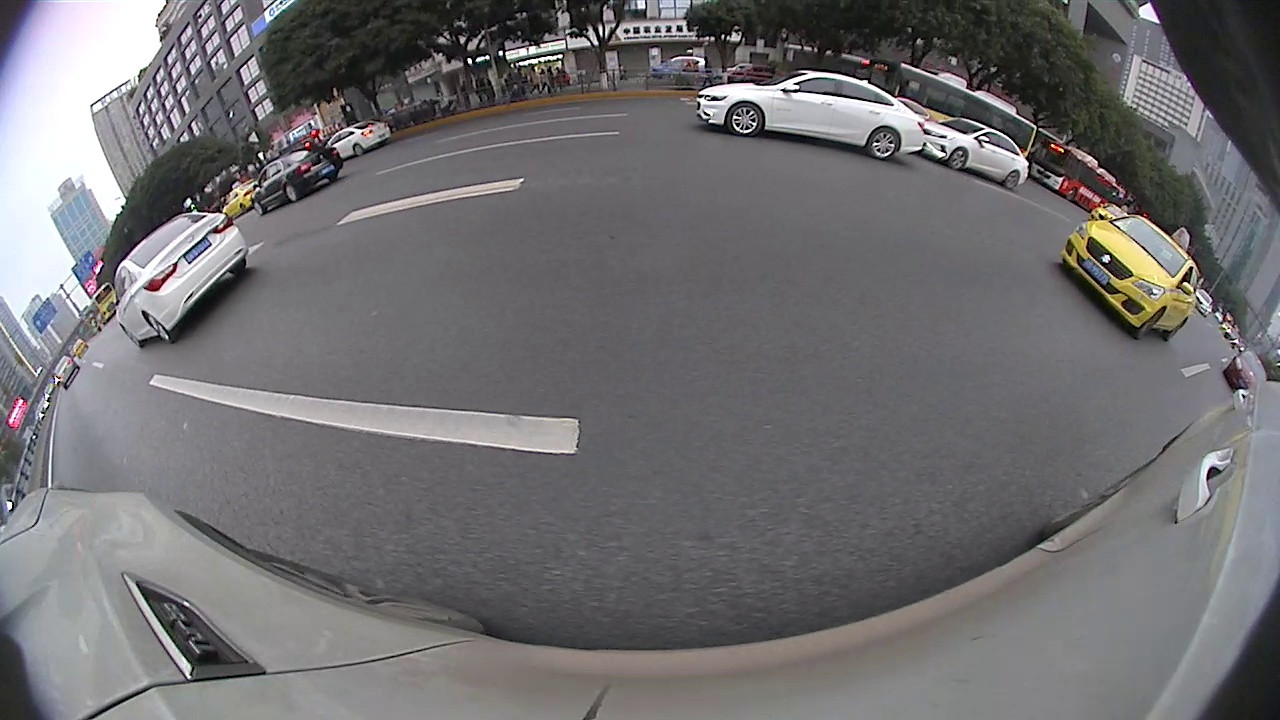bus: (856, 58, 1036, 158), (1028, 136, 1128, 215)
car: (693, 68, 923, 163), (115, 210, 250, 348), (1058, 216, 1200, 341), (913, 116, 1029, 190), (249, 149, 340, 215), (327, 122, 392, 159)
front: (729, 102, 762, 136), (1131, 307, 1163, 338), (949, 150, 968, 170), (254, 199, 265, 215)
rear: (868, 128, 900, 160), (147, 314, 176, 342), (1004, 172, 1019, 188), (285, 185, 298, 199), (353, 143, 363, 156)
